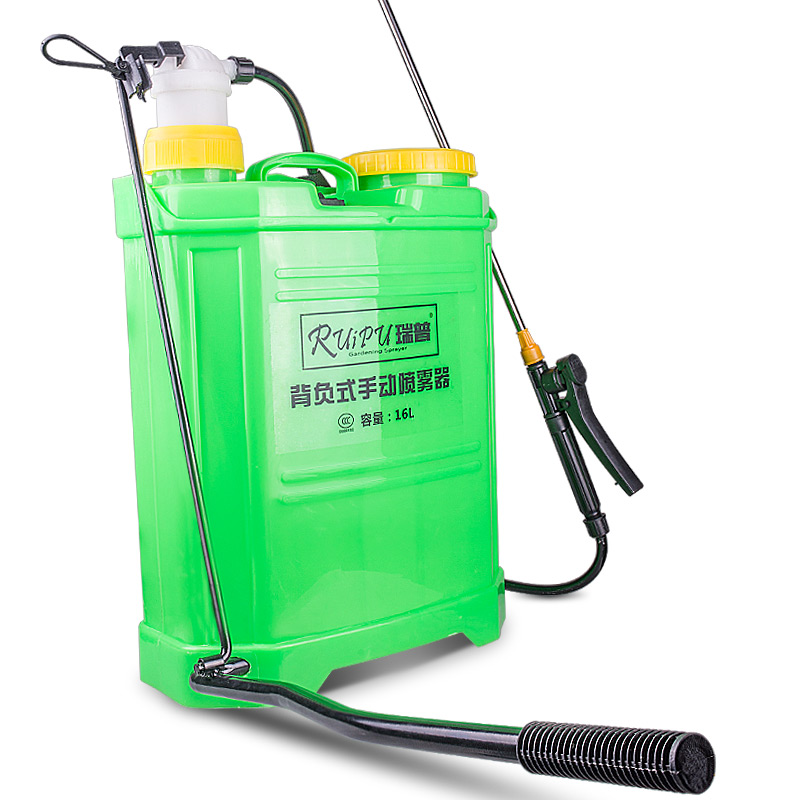berrl: (100, 40, 539, 719)
